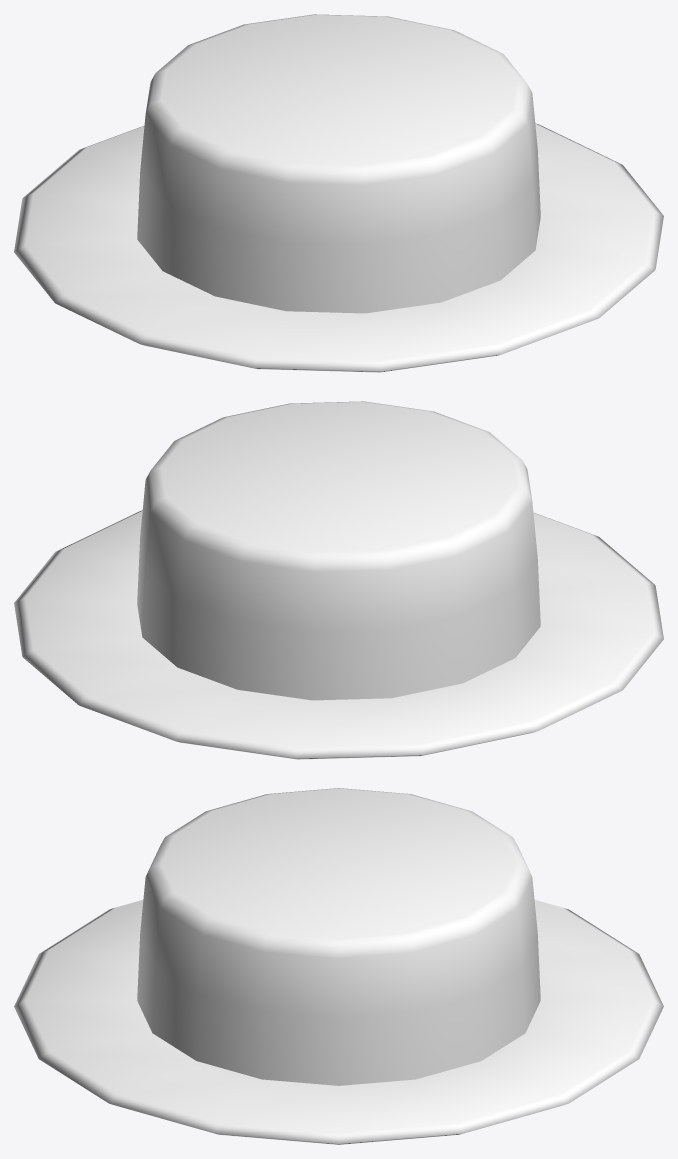
Rendered from boat_hat.fbx.
The picture shows the model from 3 angles, top to bottom: view 1: azimuth 30°, elevation 25°; view 2: azimuth 150°, elevation 25°; view 3: azimuth 270°, elevation 25°; orthographic projection.
Parts seen in each view (by area): view 1: Cylinder; view 2: Cylinder; view 3: Cylinder.
Part boxes in pixels (x1,y1,x2,y2): Cylinder: (14,14,663,372); Cylinder: (14,401,663,759); Cylinder: (14,788,663,1144).
Size of the model in its own units: 128 by 32.28 by 128.
